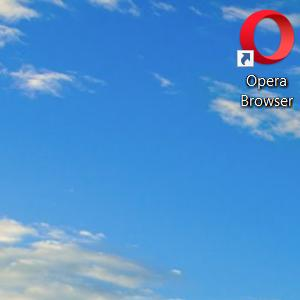opera: (236, 9, 295, 67)
